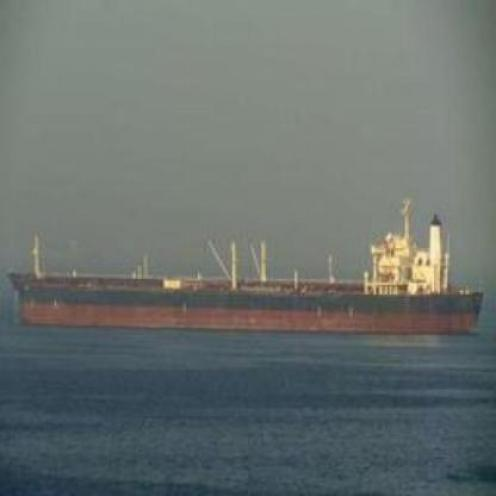Ship: (7, 230, 487, 342)
